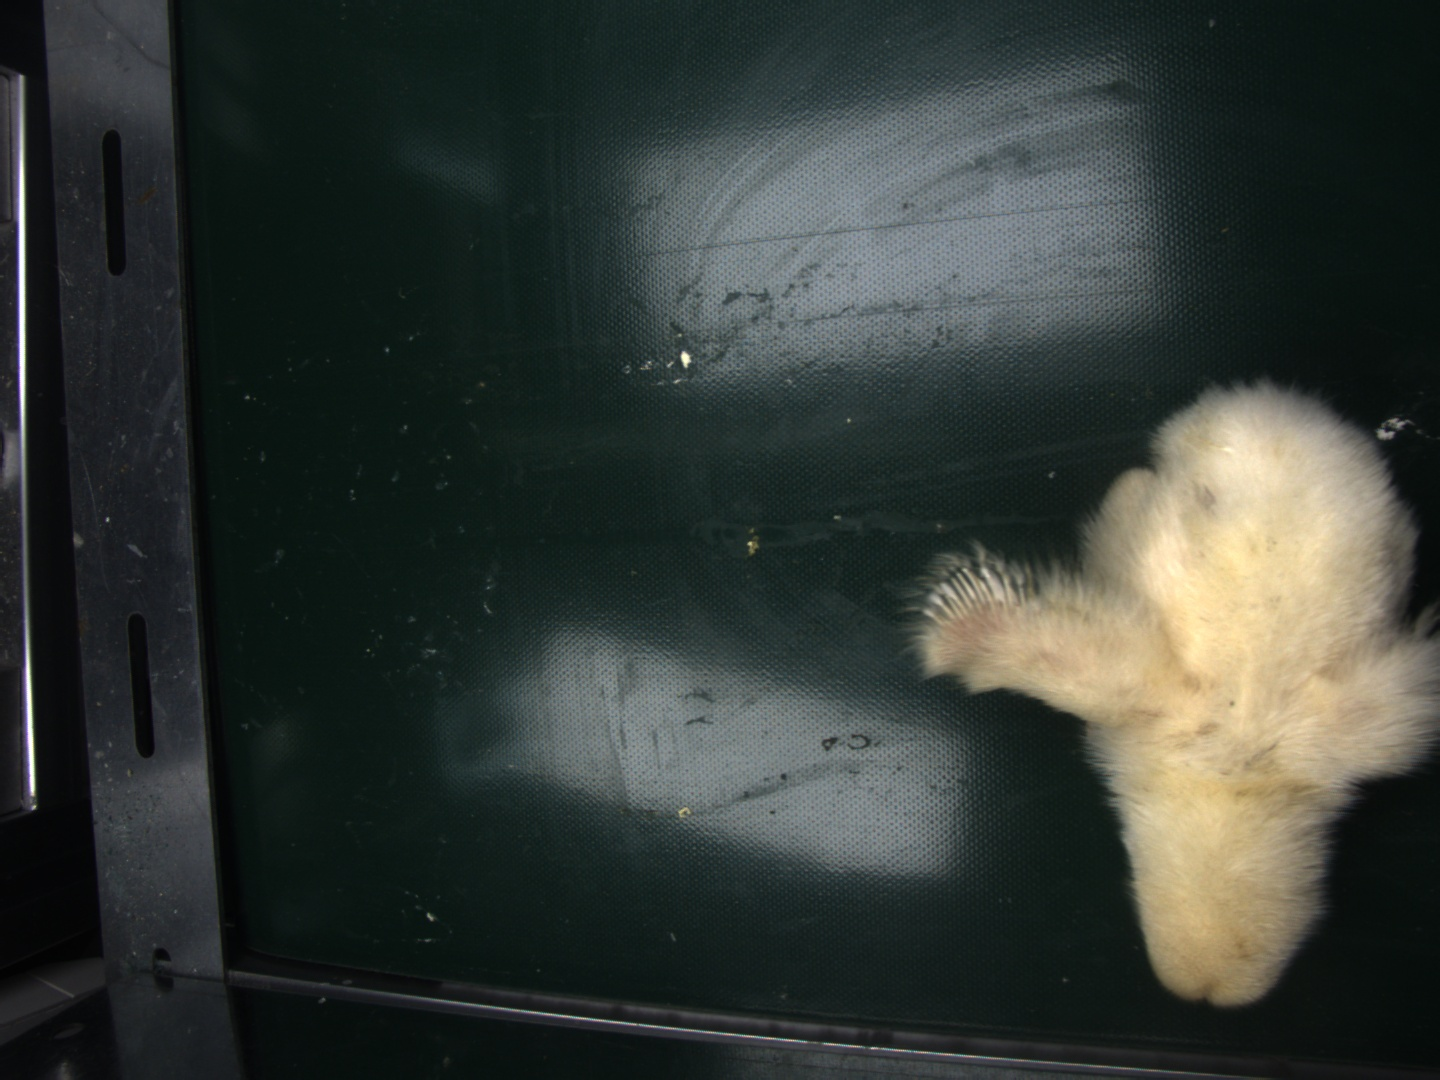male: (926, 566, 1014, 632)
